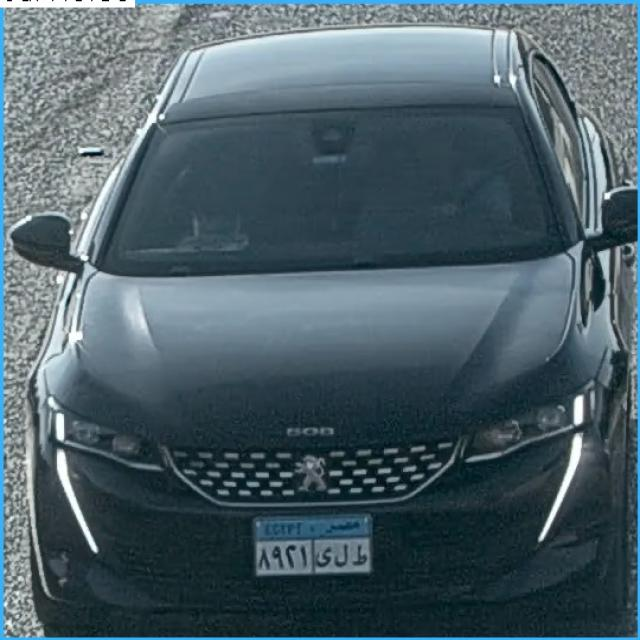windshield: (118, 97, 562, 266)
